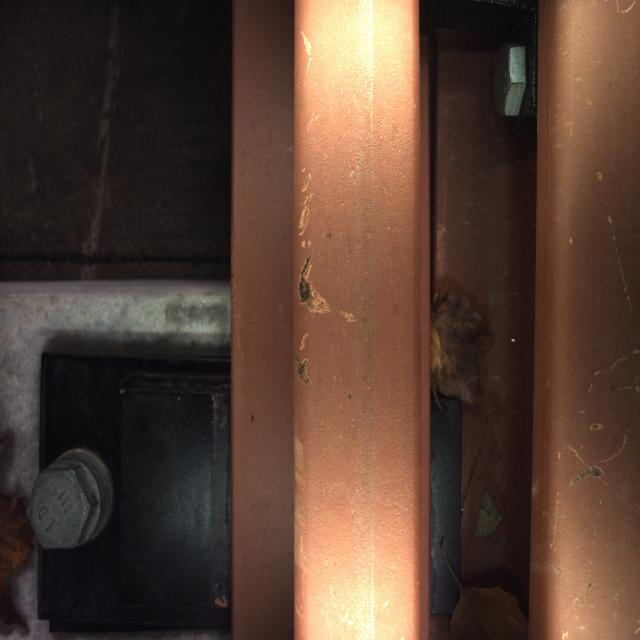scar: (294, 126, 351, 392)
